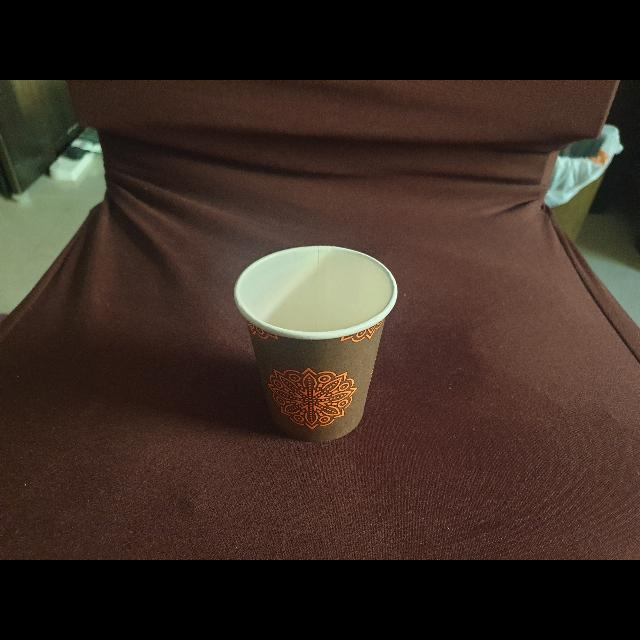trash: (228, 236, 408, 452)
